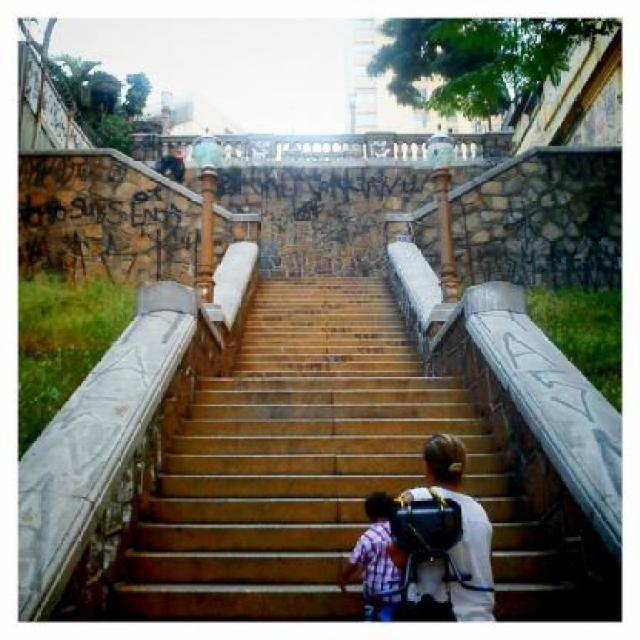stair: (92, 366, 578, 612)
